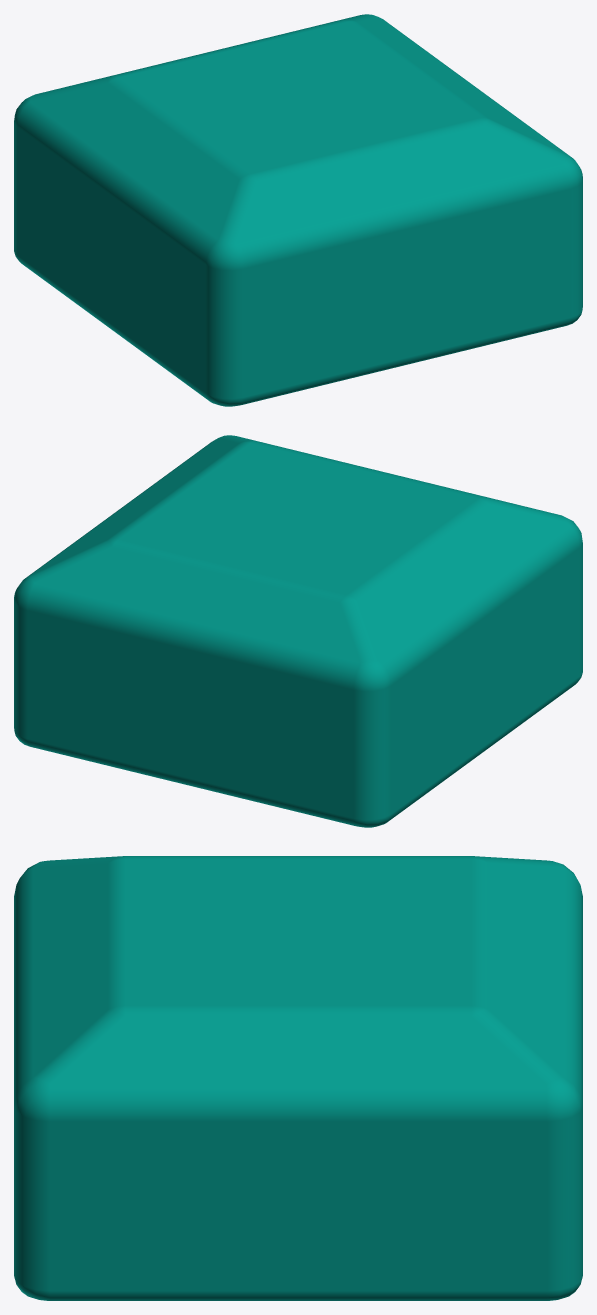
Rendered from 60x60_outer_cap.obj.
The picture shows the model from 3 angles, top to bottom: view 1: azimuth 30°, elevation 25°; view 2: azimuth 150°, elevation 25°; view 3: azimuth 270°, elevation 25°; orthographic projection. The views are drawn at different scales.
Visible parts, largest first — view 1: 60x60_outer_cap; view 2: 60x60_outer_cap; view 3: 60x60_outer_cap.
Part boxes in pixels (bbox=[...]): 60x60_outer_cap: bbox=[14, 14, 582, 406]; 60x60_outer_cap: bbox=[14, 435, 582, 827]; 60x60_outer_cap: bbox=[14, 856, 582, 1300].
Bounding box in the file's own units: 62.8 × 30.96 × 62.8.
